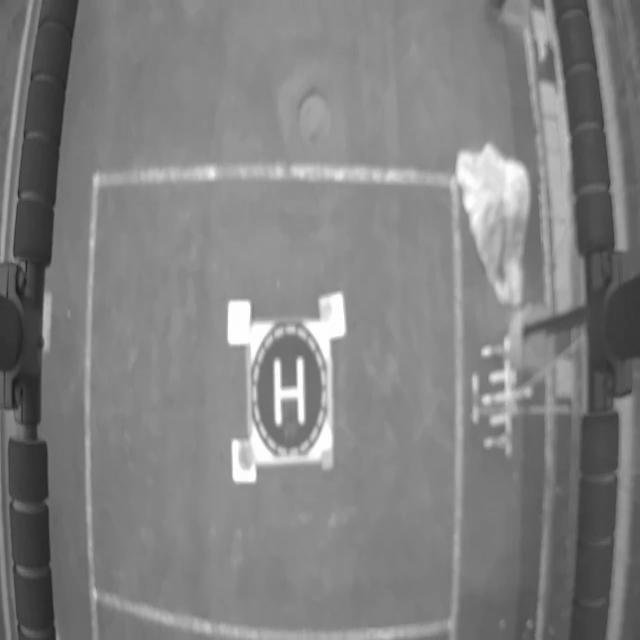Helipad: (274, 356, 305, 429)
